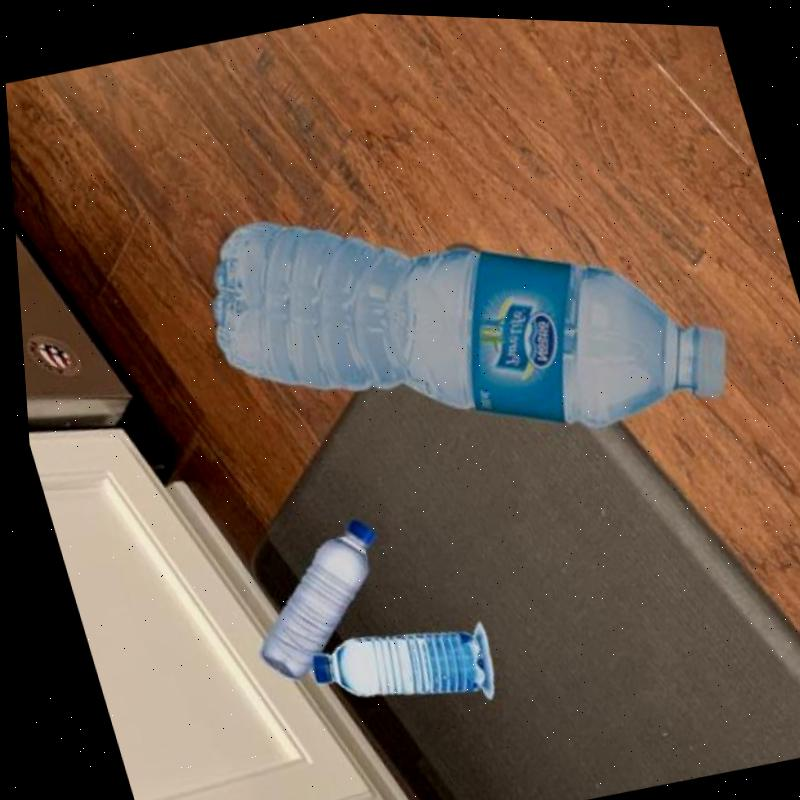botella: (173, 113, 750, 505), (214, 508, 402, 687), (292, 599, 489, 724)
